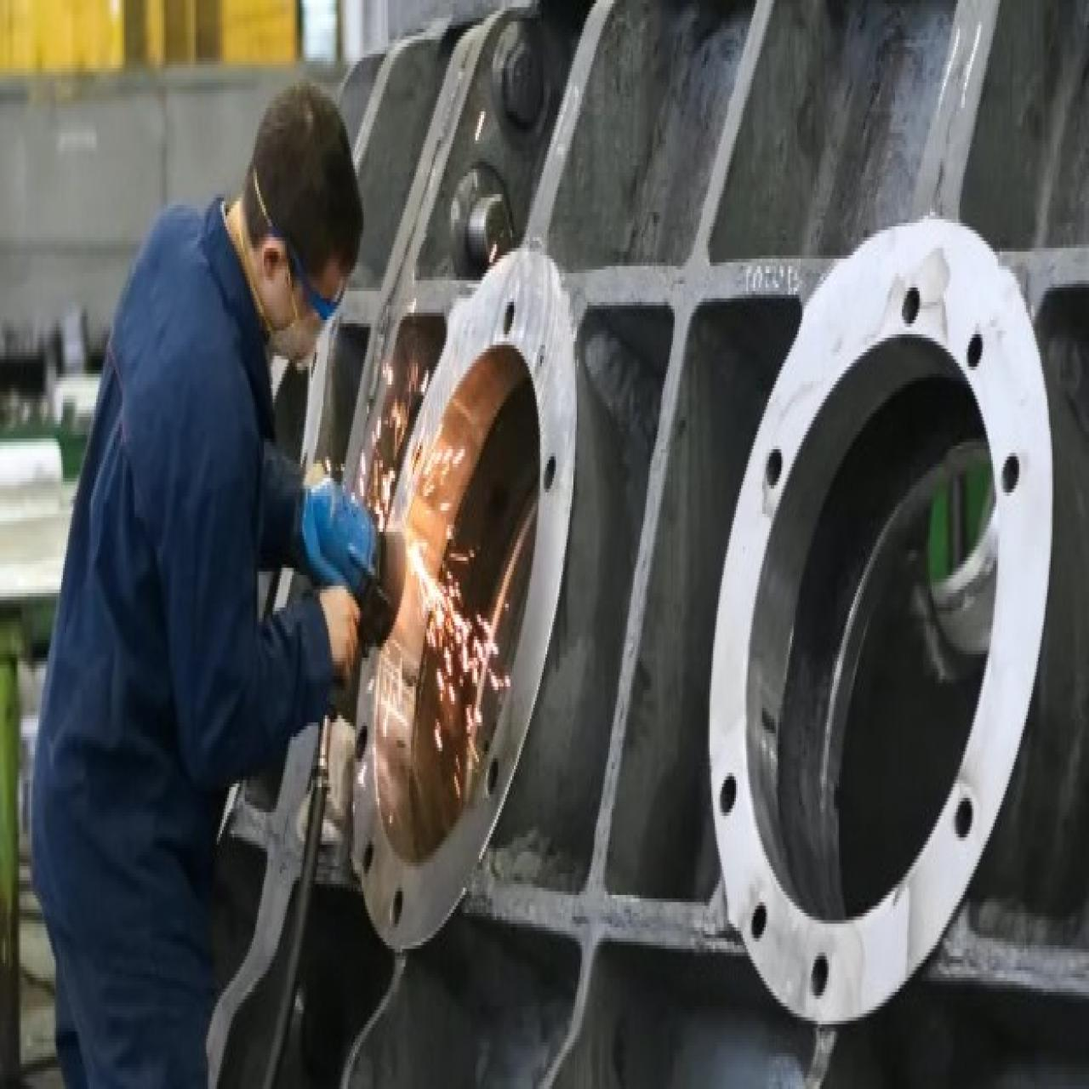NO_Safety_Vest: (61, 198, 259, 930)
Person: (29, 48, 401, 1089)
